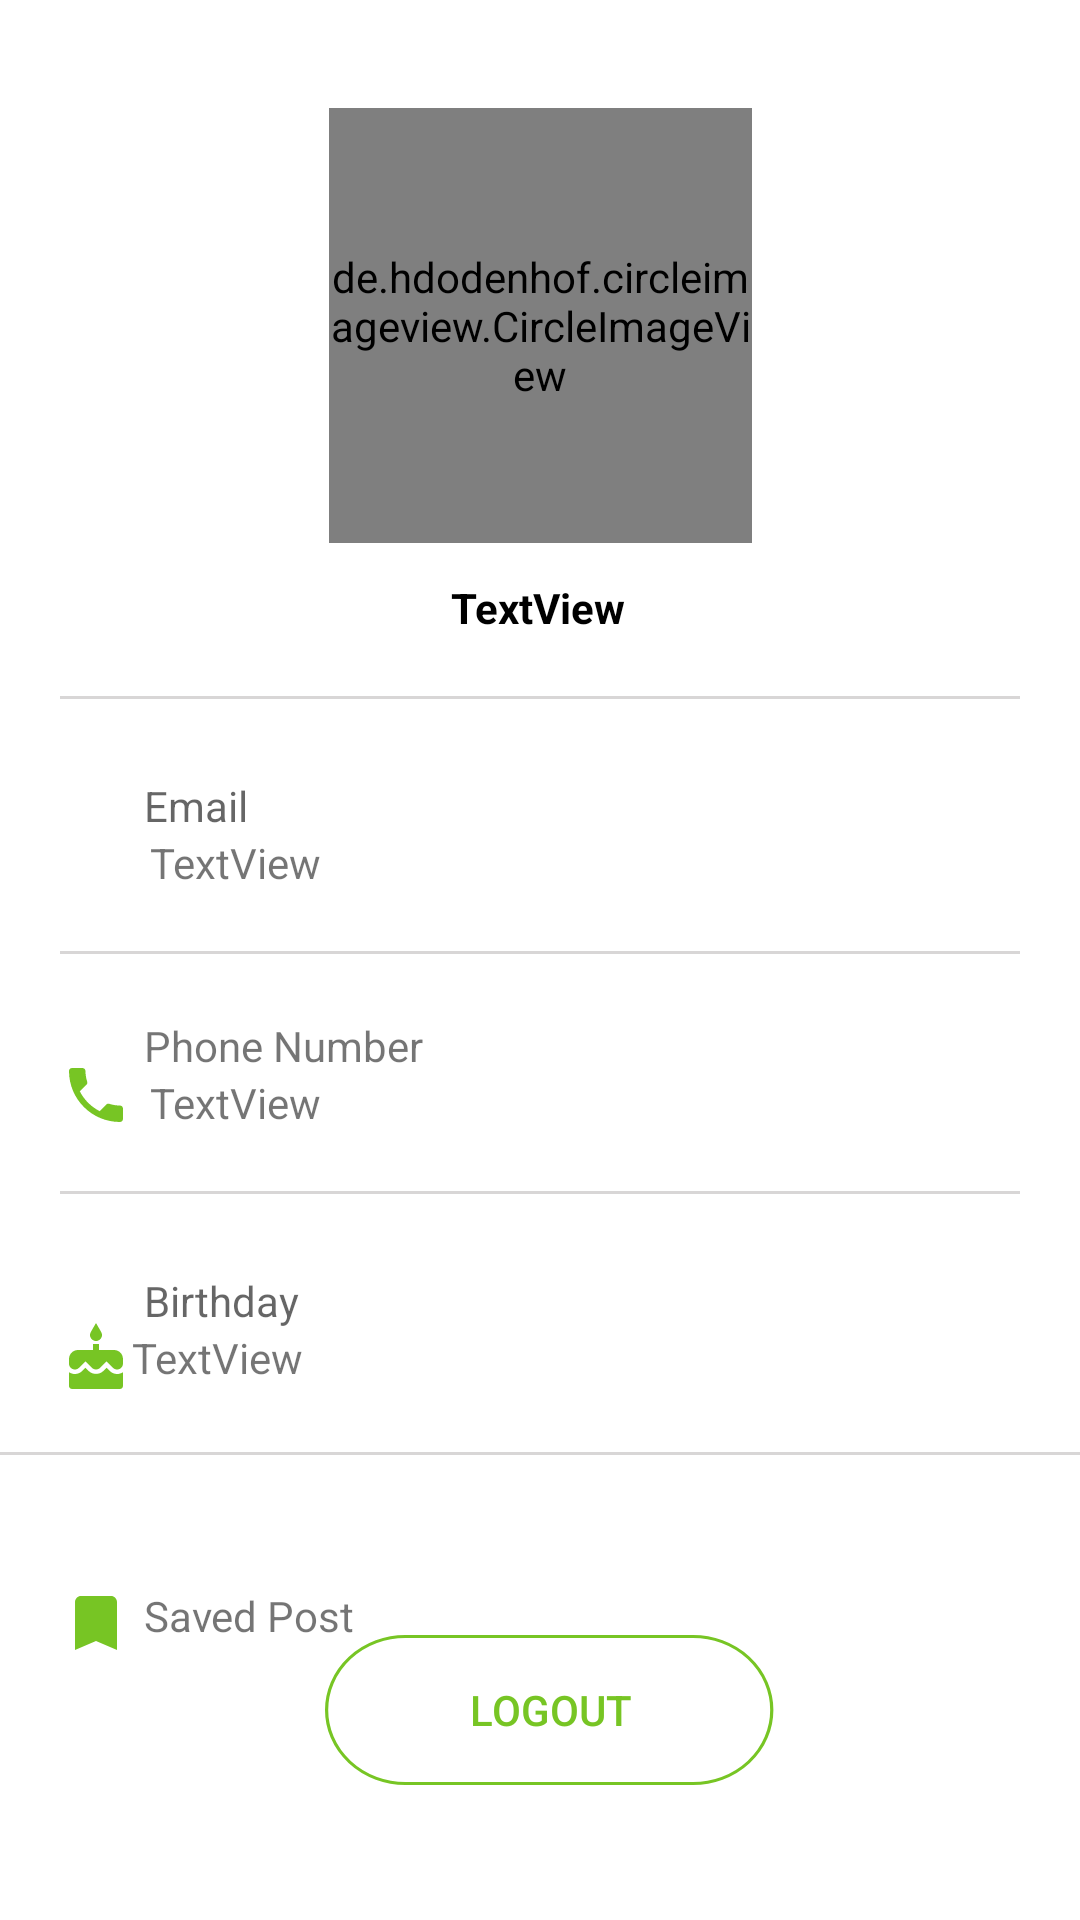

Icons on this 1080px×1920px Android screen, each with its box as box=[x1, y1, x2, y2]:
bookmark: box=[75, 1596, 117, 1650]
cake: box=[69, 1323, 123, 1389]
local phone: box=[69, 1068, 123, 1122]
